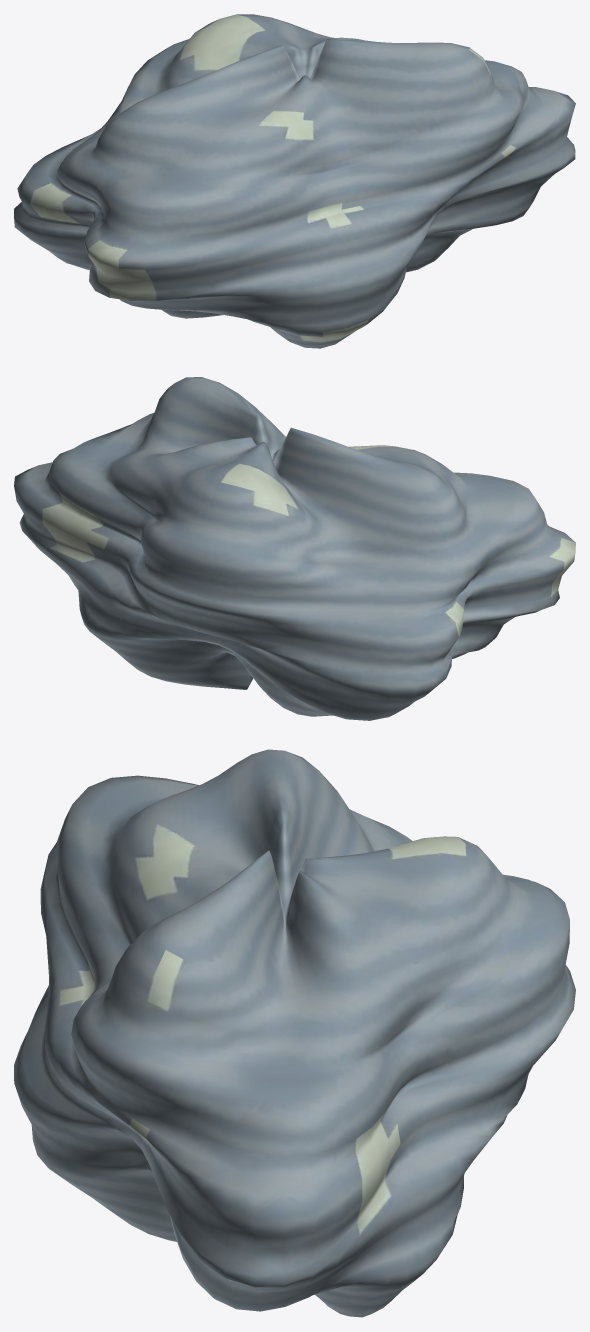
Rendered from rock_c.glb.
3 renders of one model, top to bottom at view 1: azimuth 30°, elevation 25°; view 2: azimuth 150°, elevation 25°; view 3: azimuth 270°, elevation 25°, orthographic. The views are drawn at different scales.
Parts seen in each view (by area): view 1: 18C Rock Formation; view 2: 18C Rock Formation; view 3: 18C Rock Formation.
Boxes of the visible parts, <box> form: 18C Rock Formation: <box>14,14,575,348</box>; 18C Rock Formation: <box>14,377,575,720</box>; 18C Rock Formation: <box>14,749,575,1317</box>.
Bounding box in the file's own units: 5.01 × 2.54 × 3.05.
Materials: 2 (2 with a texture image).
